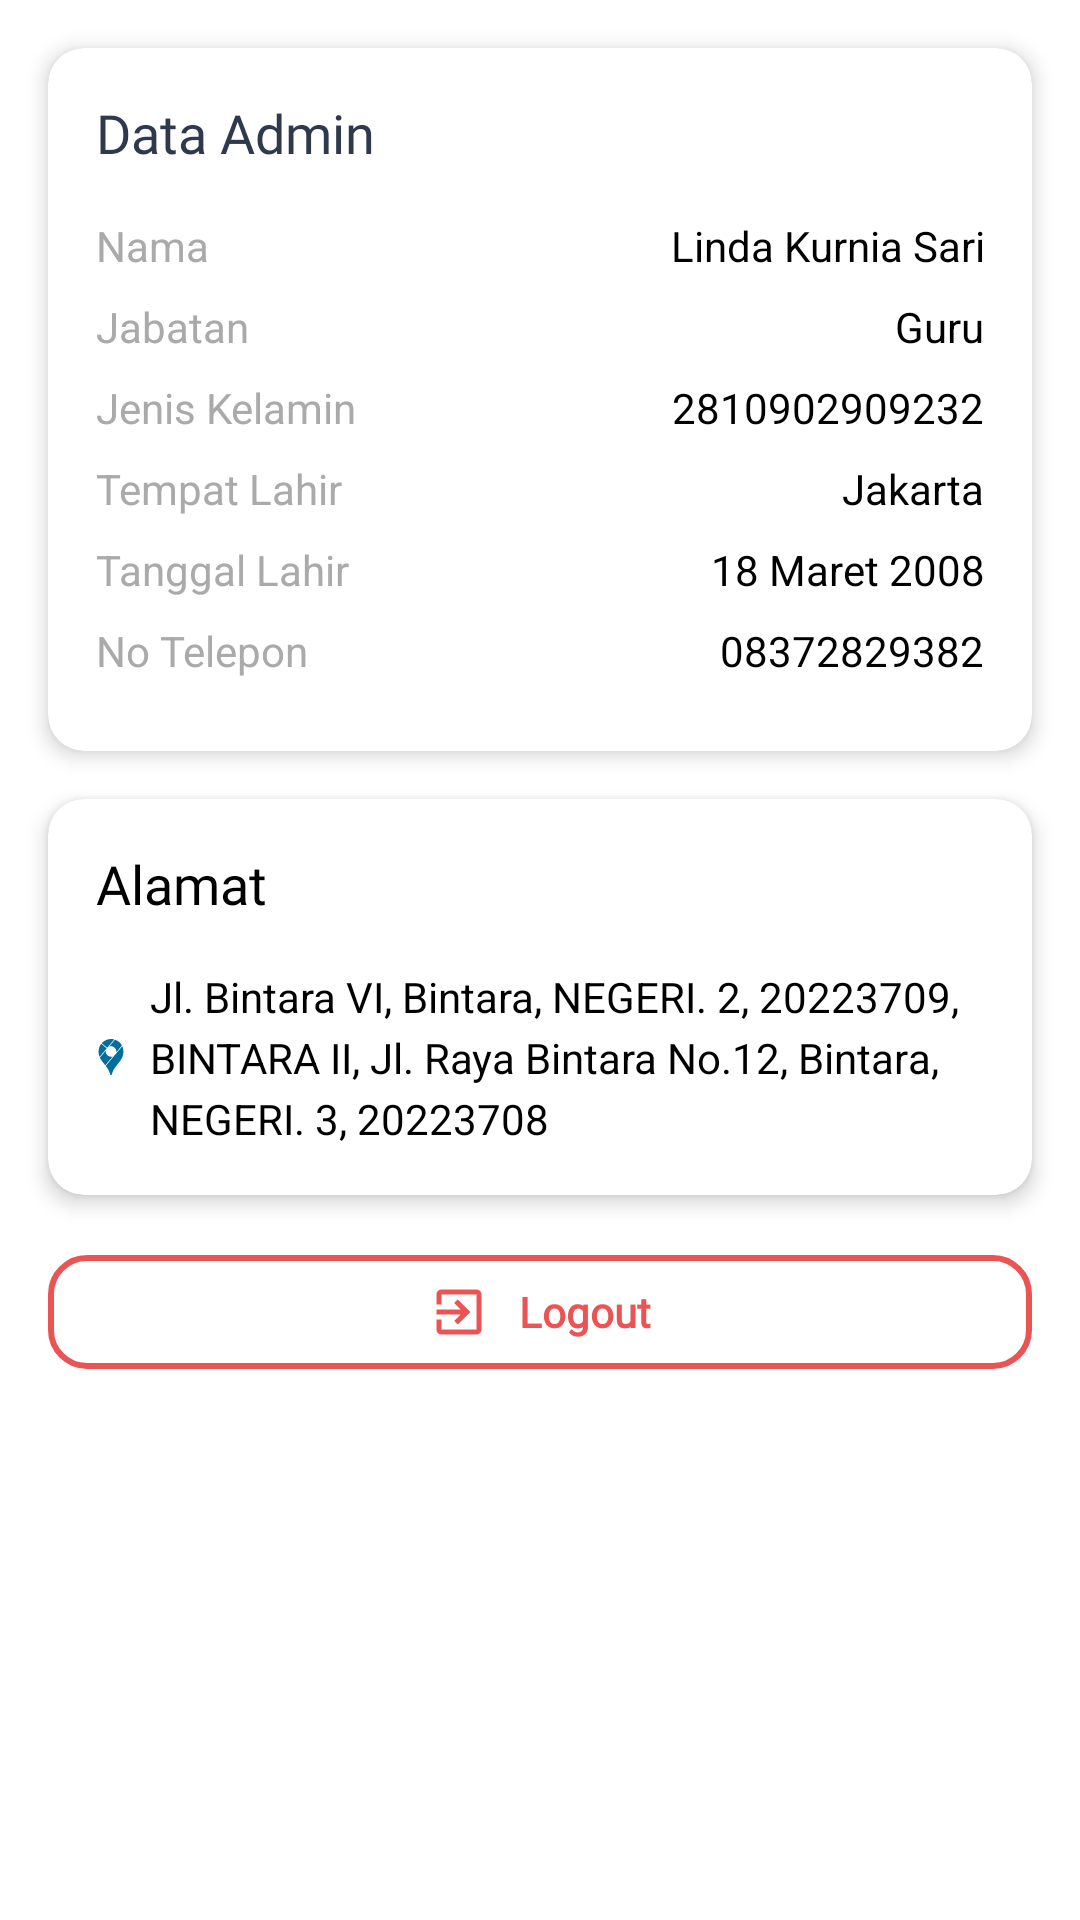

Icon click points for this 1080×1920 phone screenshot, format (x=x, y=y):
exit to app: (x=459, y=1312)
